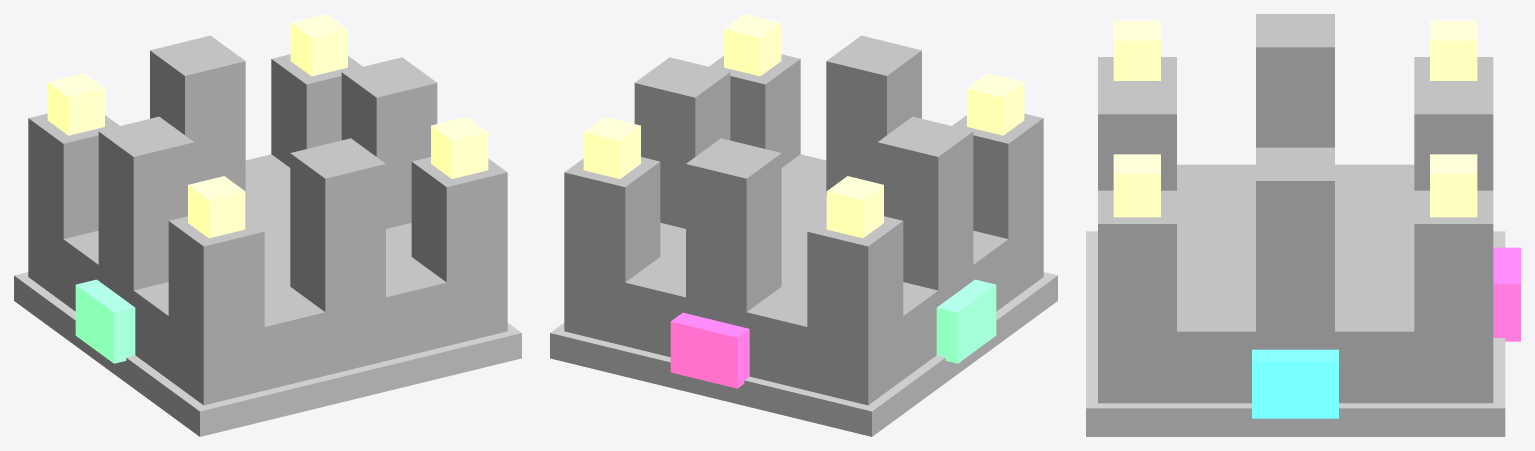
File: MutCrown.fbx
3 views of the same model, side by side, from view 1: azimuth 30°, elevation 25°; view 2: azimuth 150°, elevation 25°; view 3: azimuth 270°, elevation 25° (orthographic). The views are drawn at different scales.
Parts seen in each view (by area): view 1: Mut Crown_body_0, Mut Crown_body_1, Mut Crown_body_11, Mut Crown_body_13, Mut Crown_body_10, Mut Crown_body_6, Mut Crown_body_8, Mut Crown_body_12, Mut Crown_body_2, Mut Crown_body_4, Mut Crown_body_16, Mut Crown_body_3 (+3 smaller); view 2: Mut Crown_body_0, Mut Crown_body_10, Mut Crown_body_1, Mut Crown_body_13, Mut Crown_body_11, Mut Crown_body_2, Mut Crown_body_4, Mut Crown_body_12, Mut Crown_body_6, Mut Crown_body_8, Mut Crown_body_14, Mut Crown_body_16 (+4 smaller); view 3: Mut Crown_body_0, Mut Crown_body_1, Mut Crown_body_12, Mut Crown_body_13, Mut Crown_body_4, Mut Crown_body_8, Mut Crown_body_10, Mut Crown_body_11, Mut Crown_body_15, Mut Crown_body_5, Mut Crown_body_9, Mut Crown_body_3 (+4 smaller).
Part boxes in pixels (x1=…): Mut Crown_body_0: x1=28, y1=154, x2=507, y2=405; Mut Crown_body_1: x1=14, y1=272, x2=521, y2=436; Mut Crown_body_11: x1=290, y1=138, x2=385, y2=311; Mut Crown_body_13: x1=98, y1=116, x2=194, y2=290; Mut Crown_body_10: x1=150, y1=35, x2=245, y2=194; Mut Crown_body_6: x1=168, y1=216, x2=264, y2=341; Mut Crown_body_8: x1=411, y1=157, x2=507, y2=282; Mut Crown_body_12: x1=341, y1=57, x2=437, y2=228; Mut Crown_body_2: x1=28, y1=113, x2=119, y2=238; Mut Crown_body_4: x1=271, y1=54, x2=362, y2=167; Mut Crown_body_16: x1=75, y1=279, x2=135, y2=363; Mut Crown_body_3: x1=47, y1=73, x2=104, y2=135; Mut Crown_body_0: x1=564, y1=154, x2=1043, y2=405; Mut Crown_body_10: x1=686, y1=138, x2=781, y2=311; Mut Crown_body_1: x1=550, y1=272, x2=1057, y2=436; Mut Crown_body_13: x1=877, y1=116, x2=973, y2=290; Mut Crown_body_11: x1=826, y1=35, x2=921, y2=194; Mut Crown_body_2: x1=807, y1=216, x2=903, y2=341; Mut Crown_body_4: x1=564, y1=157, x2=660, y2=282; Mut Crown_body_12: x1=634, y1=57, x2=730, y2=228; Mut Crown_body_6: x1=952, y1=113, x2=1043, y2=238; Mut Crown_body_8: x1=709, y1=54, x2=800, y2=167; Mut Crown_body_14: x1=670, y1=312, x2=749, y2=388; Mut Crown_body_16: x1=936, y1=279, x2=996, y2=363; Mut Crown_body_0: x1=1098, y1=164, x2=1493, y2=403; Mut Crown_body_1: x1=1086, y1=231, x2=1505, y2=436; Mut Crown_body_12: x1=1256, y1=147, x2=1334, y2=331; Mut Crown_body_13: x1=1256, y1=14, x2=1334, y2=147; Mut Crown_body_4: x1=1414, y1=190, x2=1493, y2=331; Mut Crown_body_8: x1=1098, y1=190, x2=1176, y2=331; Mut Crown_body_10: x1=1414, y1=81, x2=1493, y2=190; Mut Crown_body_11: x1=1098, y1=81, x2=1176, y2=190; Mut Crown_body_15: x1=1252, y1=349, x2=1338, y2=418; Mut Crown_body_5: x1=1430, y1=154, x2=1477, y2=217; Mut Crown_body_9: x1=1113, y1=154, x2=1160, y2=217; Mut Crown_body_3: x1=1430, y1=20, x2=1477, y2=80.
Size of the model in its own units: 114 by 70 by 110.
